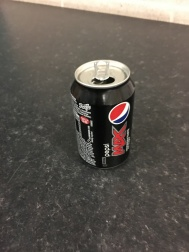can_black: (62, 58, 145, 179)
